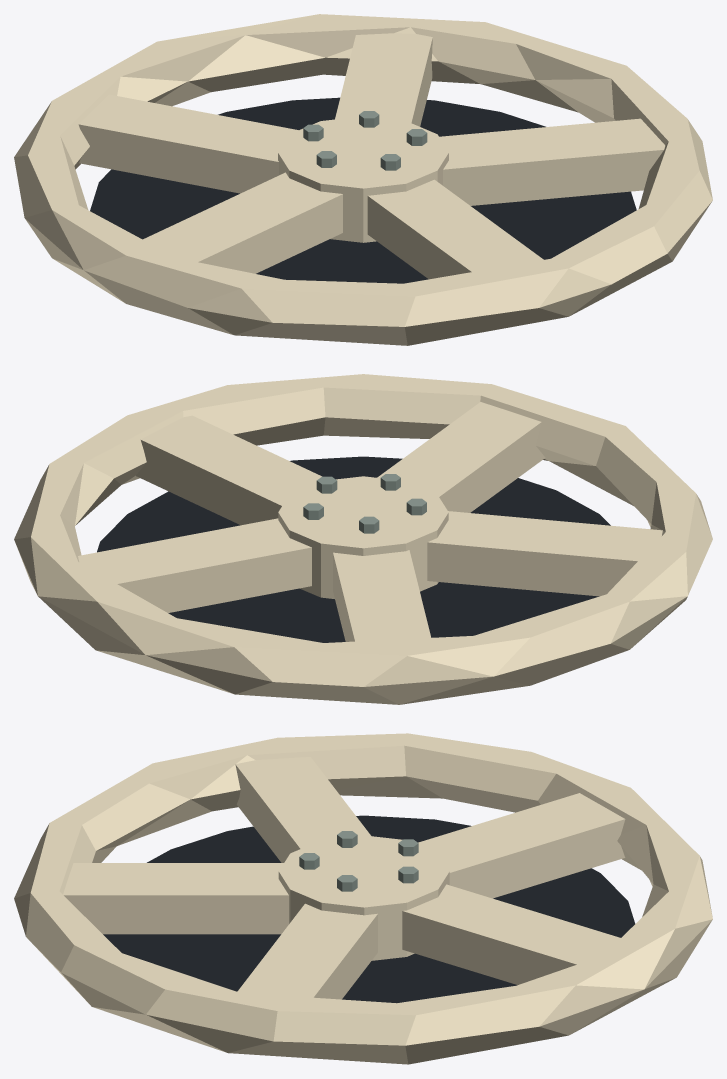
The model's file is wheel_rim.glb.
The picture shows the model from 3 angles, top to bottom: view 1: azimuth 30°, elevation 25°; view 2: azimuth 150°, elevation 25°; view 3: azimuth 270°, elevation 25°; orthographic projection.
Parts seen in each view (by area): view 1: ivory, ink, metal; view 2: ivory, ink, metal; view 3: ivory, ink, metal.
Part boxes in pixels (bbox=[...]): ivory: bbox=[14, 14, 712, 345]; ink: bbox=[90, 97, 636, 283]; metal: bbox=[303, 111, 427, 170]; ivory: bbox=[14, 374, 712, 704]; ink: bbox=[97, 456, 610, 642]; metal: bbox=[303, 474, 426, 533]; ivory: bbox=[14, 733, 712, 1064]; ink: bbox=[103, 815, 635, 1003]; metal: bbox=[299, 831, 418, 891].
Bounding box in the file's own units: 0.4091 × 0.056 × 0.4092.
